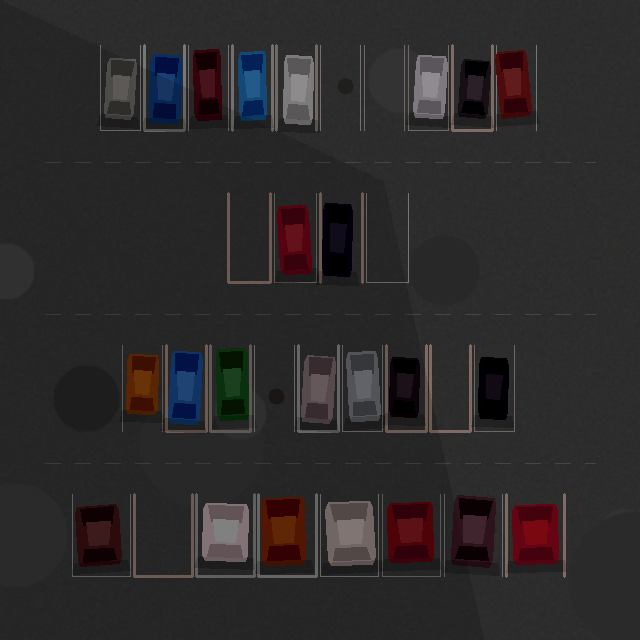space-empty: (134, 494, 192, 576), (228, 193, 270, 282), (366, 193, 408, 282), (254, 345, 294, 431), (430, 345, 470, 431), (320, 45, 360, 130), (364, 45, 404, 130)
space-occupied: (72, 494, 130, 576), (196, 494, 254, 576), (258, 494, 316, 576), (320, 494, 378, 576), (382, 494, 440, 576), (444, 494, 502, 576), (506, 494, 564, 576), (274, 193, 316, 282), (320, 193, 362, 282), (122, 345, 162, 431), (166, 345, 206, 431), (210, 345, 250, 431), (298, 345, 338, 431), (342, 345, 382, 431), (386, 345, 426, 431), (474, 345, 514, 431), (100, 45, 140, 130), (144, 45, 184, 130), (188, 45, 228, 130), (232, 45, 272, 130), (276, 45, 316, 130), (408, 45, 448, 130), (452, 45, 492, 130), (496, 45, 536, 130)
